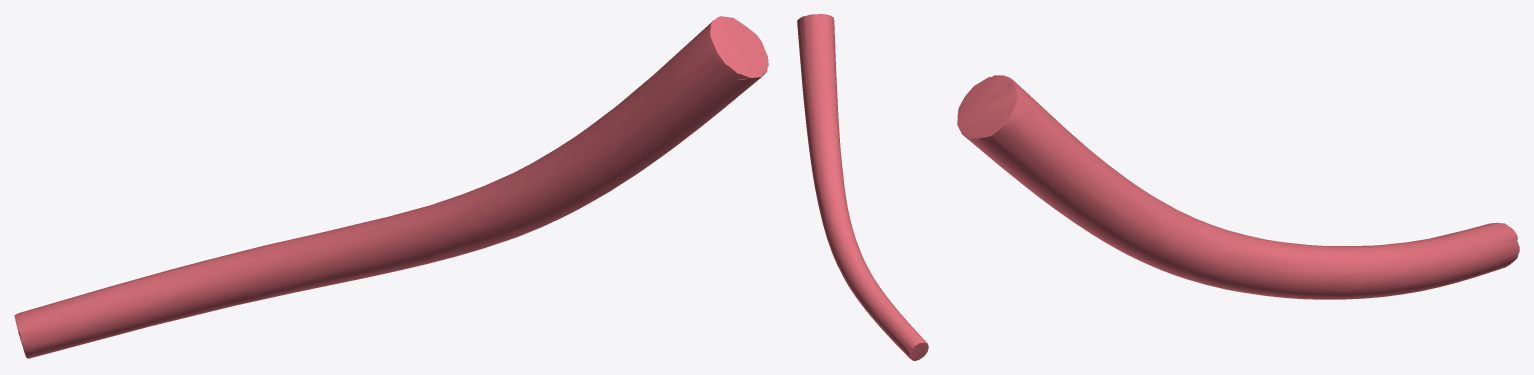
Rendered from fma8632_fj6083.glb.
3 renders of one model, left to right at view 1: azimuth 30°, elevation 25°; view 2: azimuth 150°, elevation 25°; view 3: azimuth 270°, elevation 25°, orthographic. The views are drawn at different scales.
Visible parts, largest first — view 1: FMA8632_FJ6083; view 2: FMA8632_FJ6083; view 3: FMA8632_FJ6083.
Boxes of the visible parts, bbox=[...] form: FMA8632_FJ6083: bbox=[14, 16, 768, 358]; FMA8632_FJ6083: bbox=[797, 14, 928, 360]; FMA8632_FJ6083: bbox=[957, 75, 1519, 299].
Bounding box in the file's own units: 0.0294 × 0.0227 × 0.0285.
